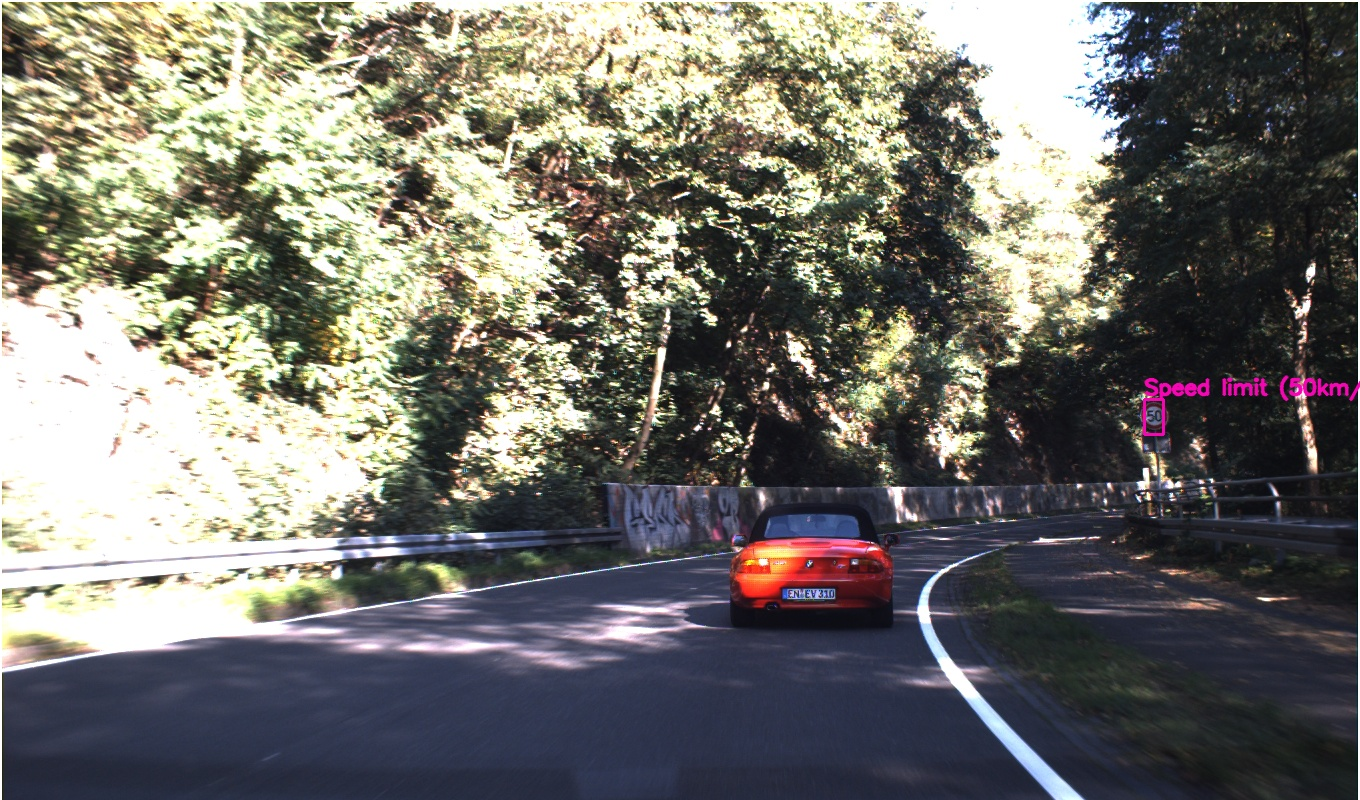Speed limit (50km/h): (1224, 333, 1285, 394)
